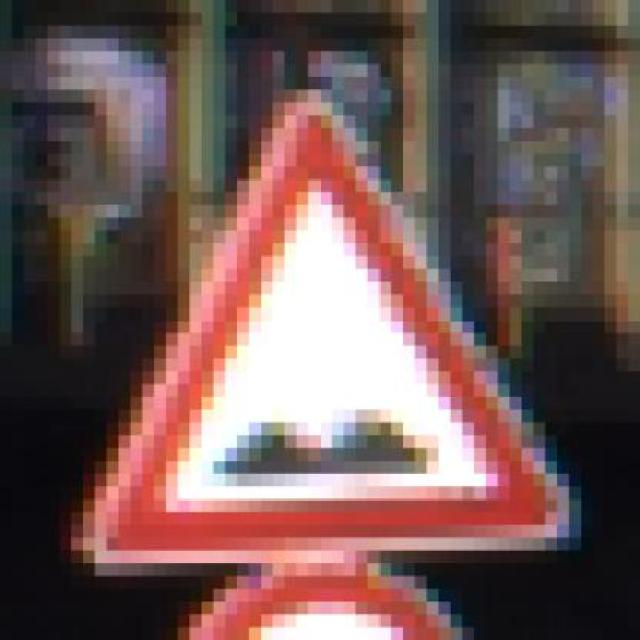Uneven Road: (70, 65, 582, 563)
